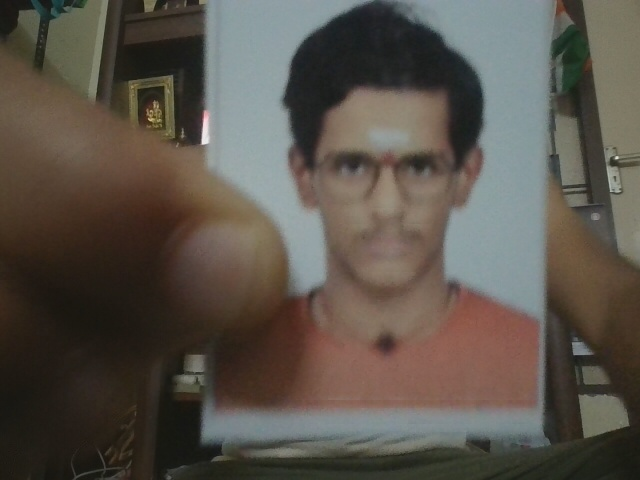fake: (281, 89, 490, 298)
